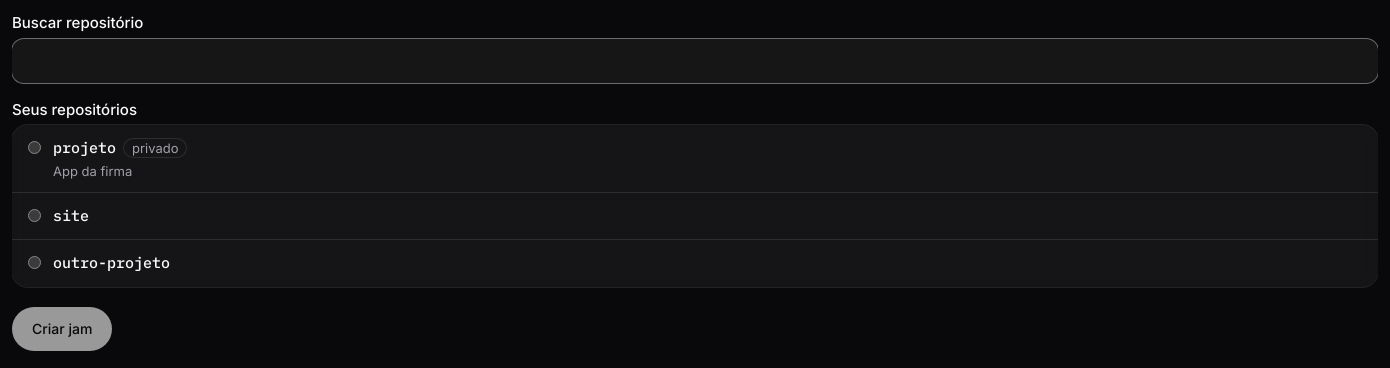
Test case: importar repositório (Story 2.1) › lista os repositórios e filtra pela busca (AC 1)
Expected: the number of radio buttons is 3, 28,141 -> 41,154; 28,209 -> 41,222; 28,256 -> 41,269
Expected: the text "privado" is shown, 124,139 -> 186,157
In the search field labelled "Buscar repositório": (695, 60) 12,38 -> 1378,82, type "PROJ"
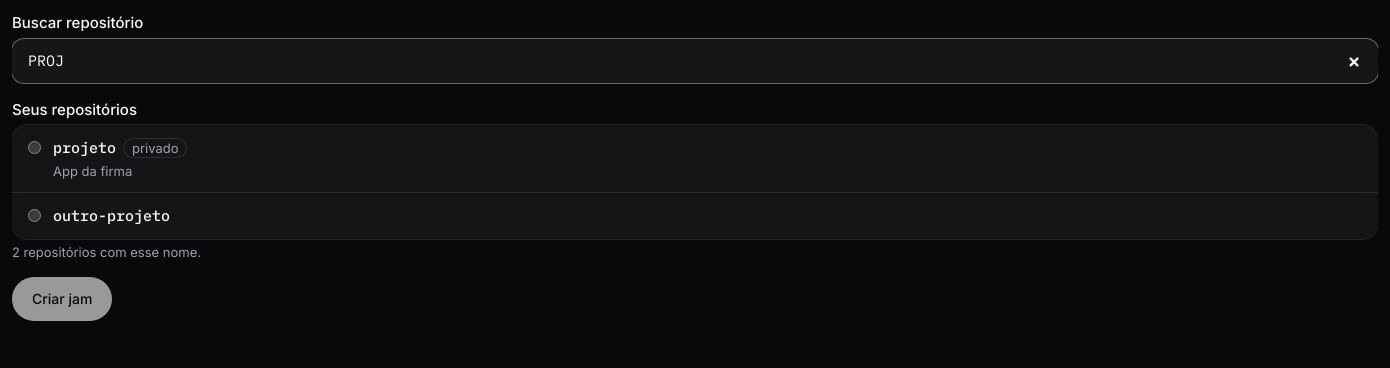
Replace the text in the search field labelled "Buscar repositório" with "nada": (695, 60) 12,38 -> 1378,82
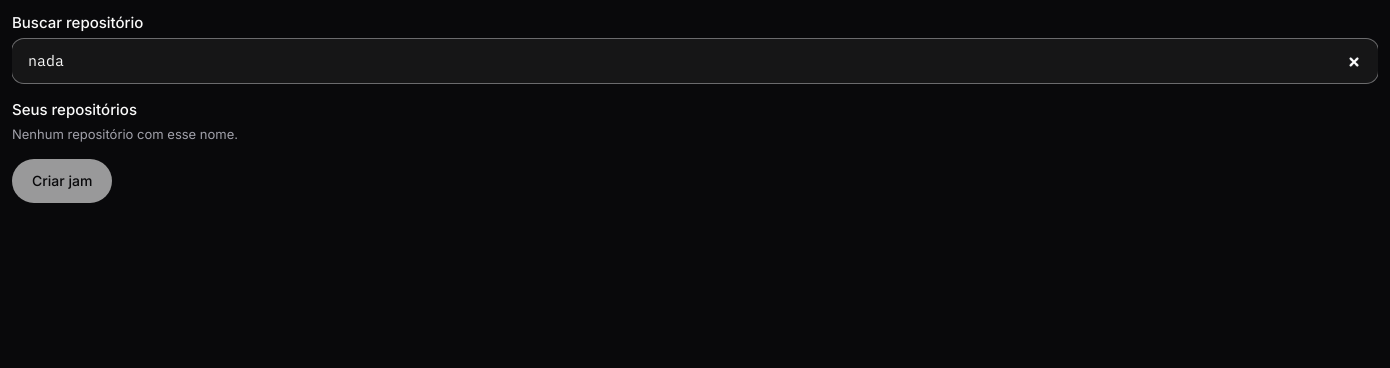
Expected: the text "Nenhum repositório com esse nome." is shown, 12,126 -> 238,142
